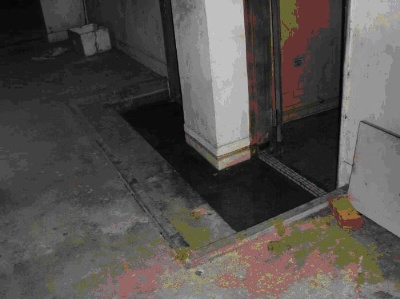styrofoam: (67, 20, 114, 59)
